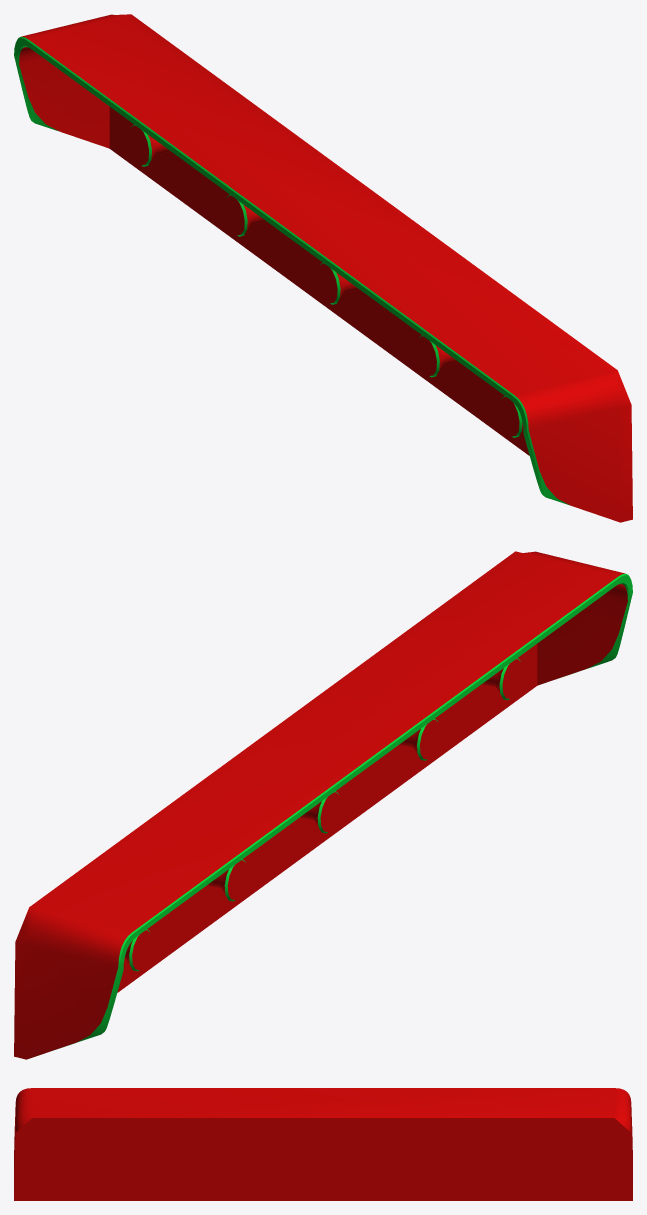
File: Handle little.FBX
The picture shows the model from 3 angles, top to bottom: view 1: azimuth 30°, elevation 25°; view 2: azimuth 150°, elevation 25°; view 3: azimuth 270°, elevation 25°; orthographic projection. The views are drawn at different scales.
Visible parts, largest first — view 1: handle little; view 2: handle little; view 3: handle little.
Part boxes in pixels (x1,y1,x2,y2): handle little: (14,14,632,522); handle little: (14,551,632,1059); handle little: (14,1088,632,1200).
Size of the model in its own units: 1.64 by 2.08 by 14.09.
